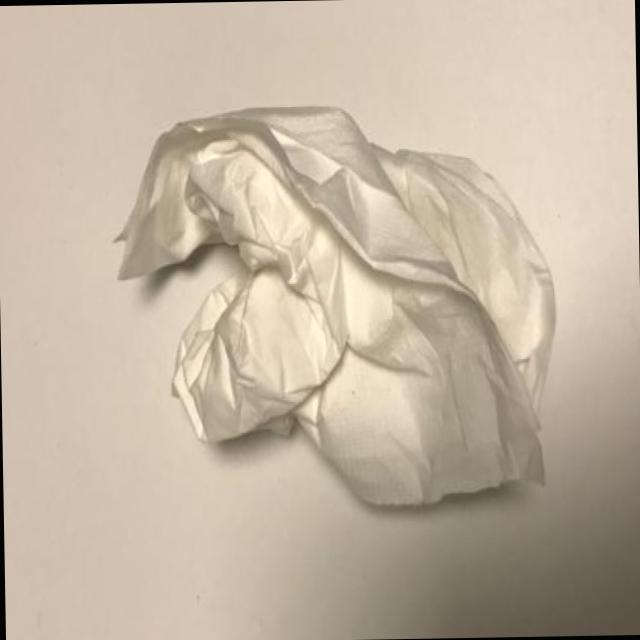giay: (114, 105, 557, 511)
